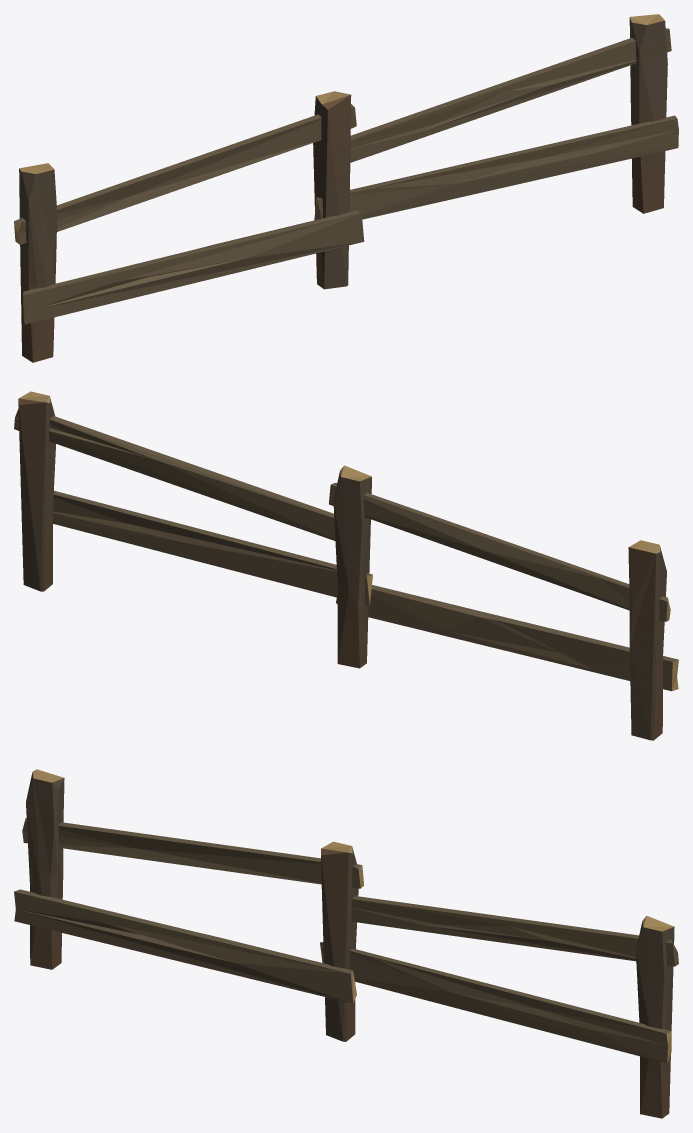
File: Fence_2.fbx
The picture shows the model from 3 angles, top to bottom: view 1: azimuth 30°, elevation 25°; view 2: azimuth 150°, elevation 25°; view 3: azimuth 330°, elevation 25°; orthographic projection.
Visible parts, largest first — view 1: polySurface9743; view 2: polySurface9743; view 3: polySurface9743.
Boxes of the visible parts, <box> form: polySurface9743: <box>14,14,678,362</box>; polySurface9743: <box>14,391,678,740</box>; polySurface9743: <box>14,769,678,1118</box>.
Size of the model in its own units: 444 by 124 by 20.7.
